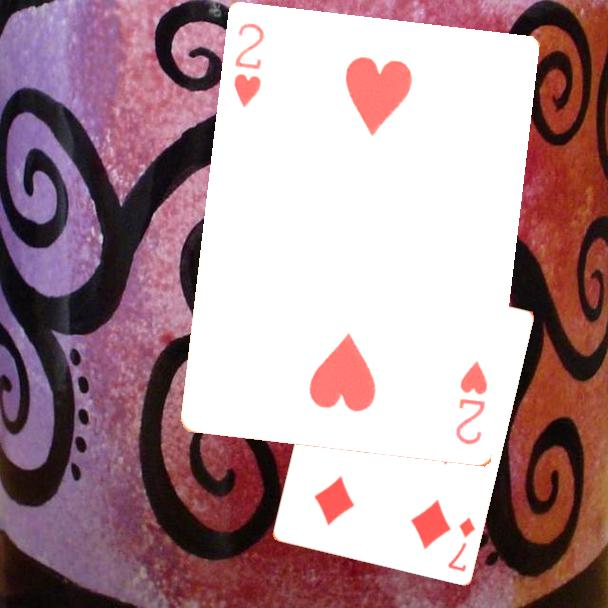d07: (444, 513, 478, 574)
h02: (452, 357, 491, 448), (230, 20, 268, 111)
